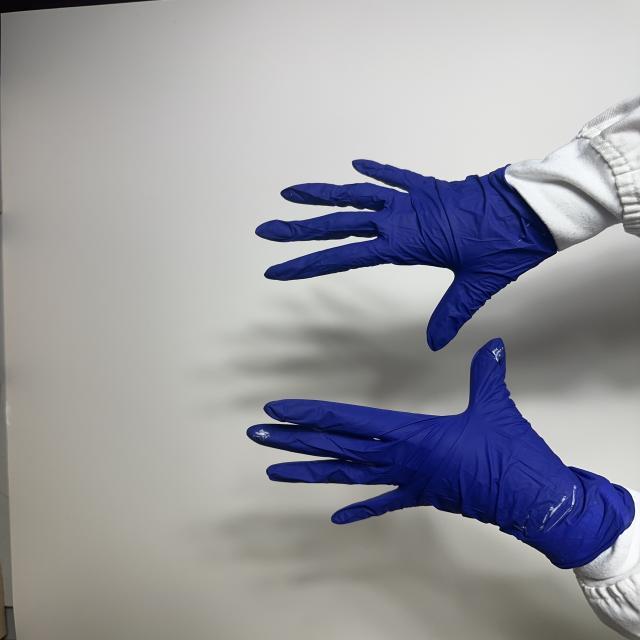gloves_contaminated: (247, 338, 635, 568), (256, 160, 556, 350)
